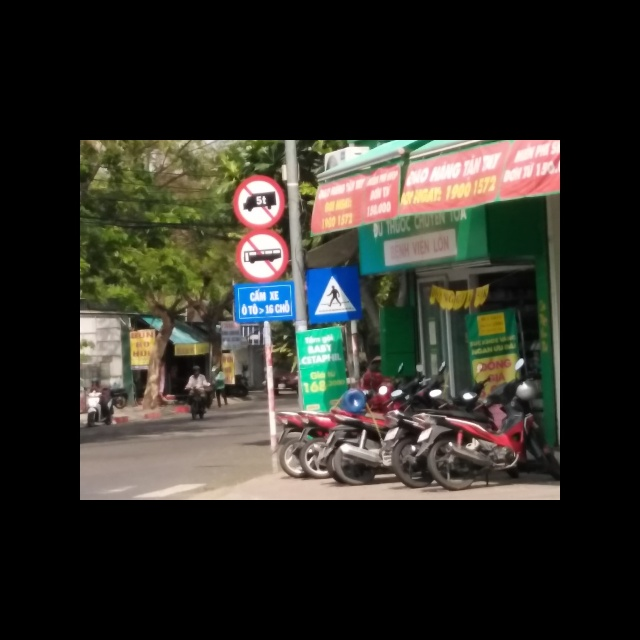Cấm xe tải: (232, 176, 287, 231)
Cấm xe xe khách: (235, 231, 290, 284)
Đường dành cho người đi bộ: (306, 267, 363, 323)
